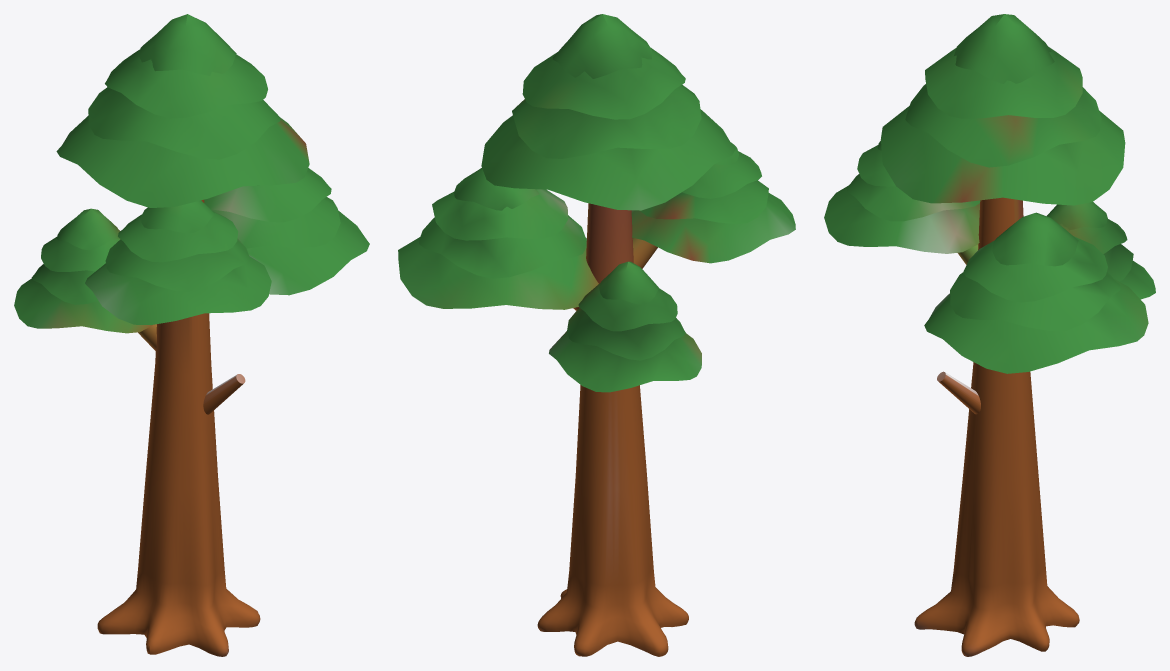
File: Tree_Normal.fbx
3 renders of one model, left to right at view 1: azimuth 30°, elevation 25°; view 2: azimuth 150°, elevation 25°; view 3: azimuth 270°, elevation 25°, orthographic.
Parts seen in each view (by area): view 1: SM_Pine02_LOD0.mo; view 2: SM_Pine02_LOD0.mo; view 3: SM_Pine02_LOD0.mo.
Part boxes in pixels (<box>): SM_Pine02_LOD0.mo: <box>14,14,369,656</box>; SM_Pine02_LOD0.mo: <box>398,14,795,656</box>; SM_Pine02_LOD0.mo: <box>824,14,1155,656</box>.
Size of the model in its own units: 355 by 653 by 318.
